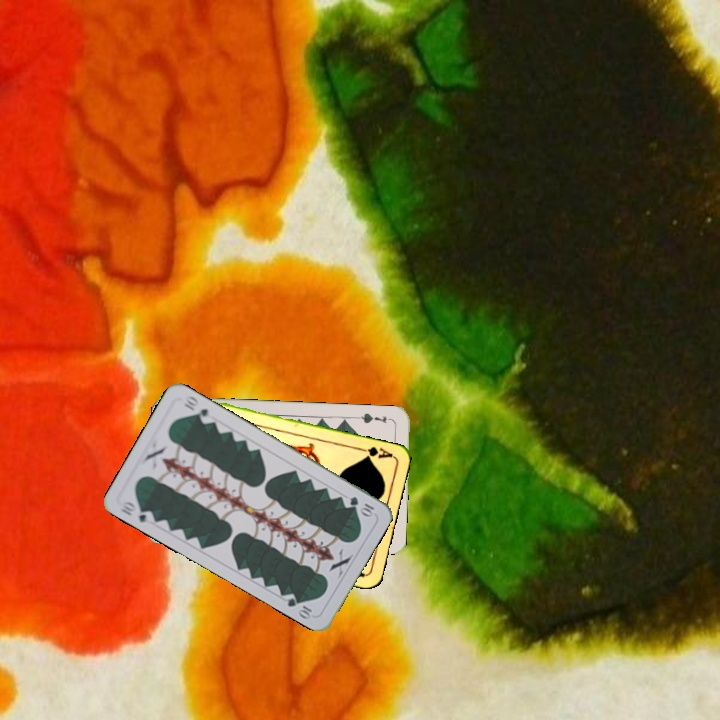G10: (117, 496, 157, 526), (346, 492, 377, 519)
G7: (355, 409, 395, 426)
GA: (354, 442, 395, 461)
